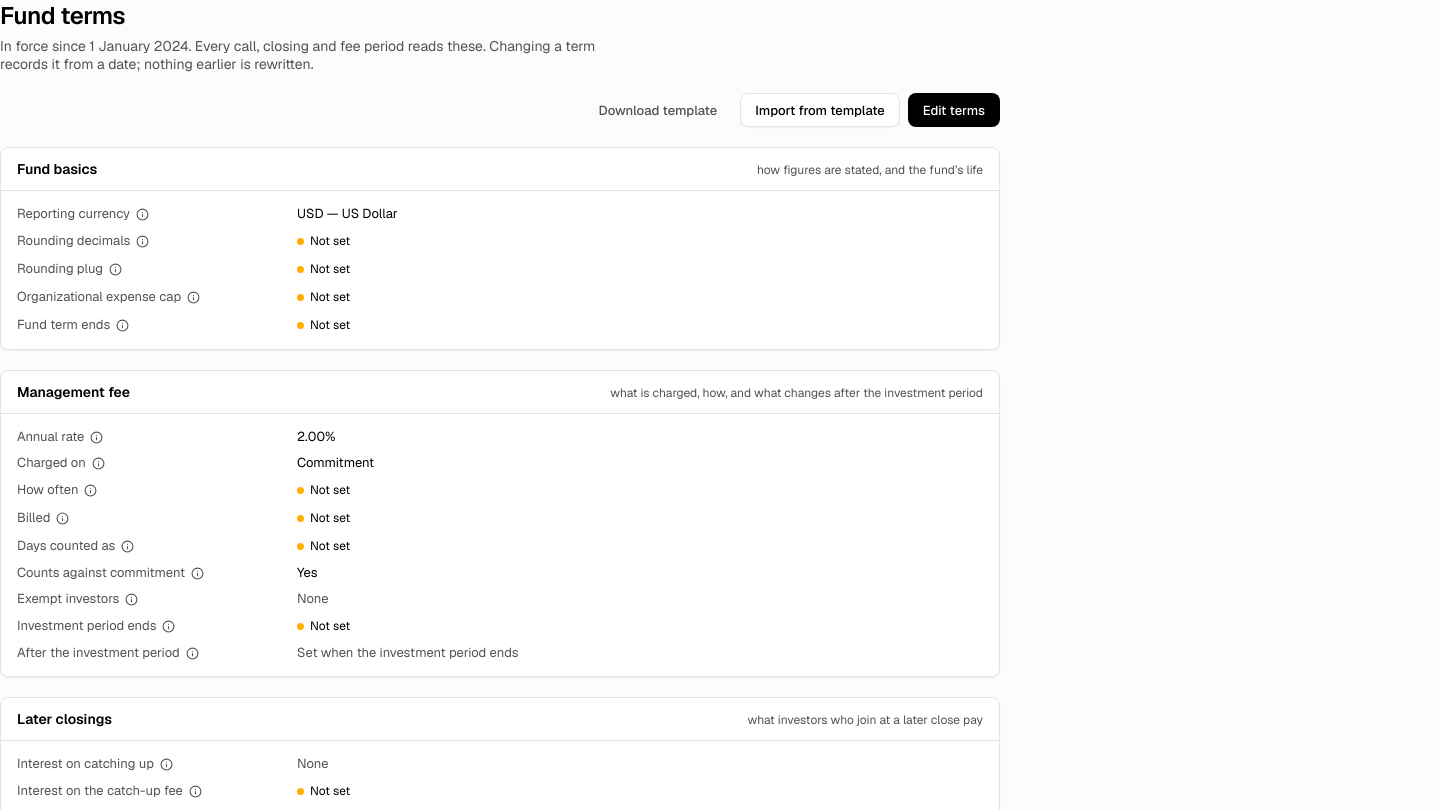
Scenario: recording a change › will not schedule it without knowing when the period ends
Click the button "Edit terms". click: (954,110)
box: [908, 93, 1000, 127]
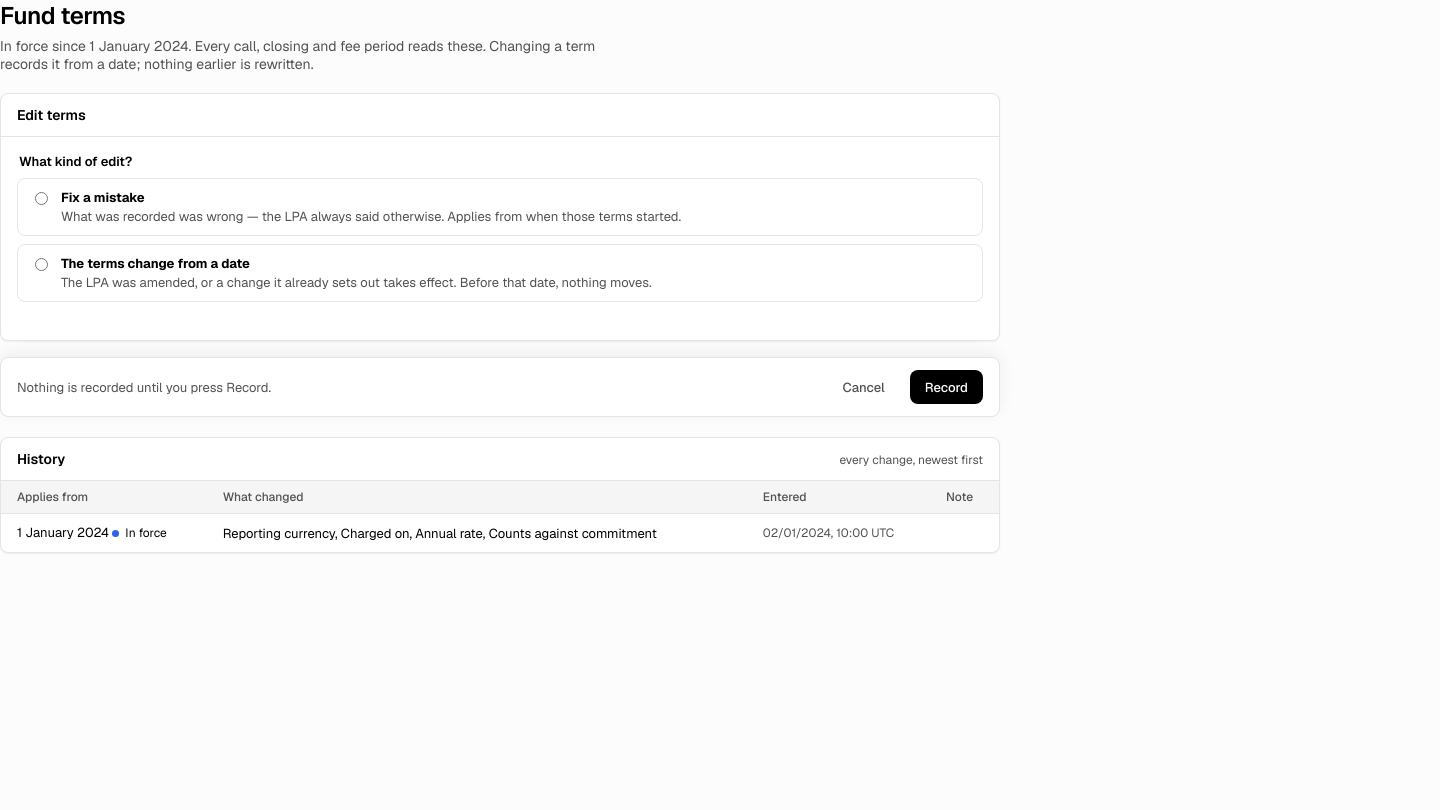
Click the radio button labelled "The terms change from a date". click: (42,264)
box: [35, 258, 48, 271]
(page scrolled)
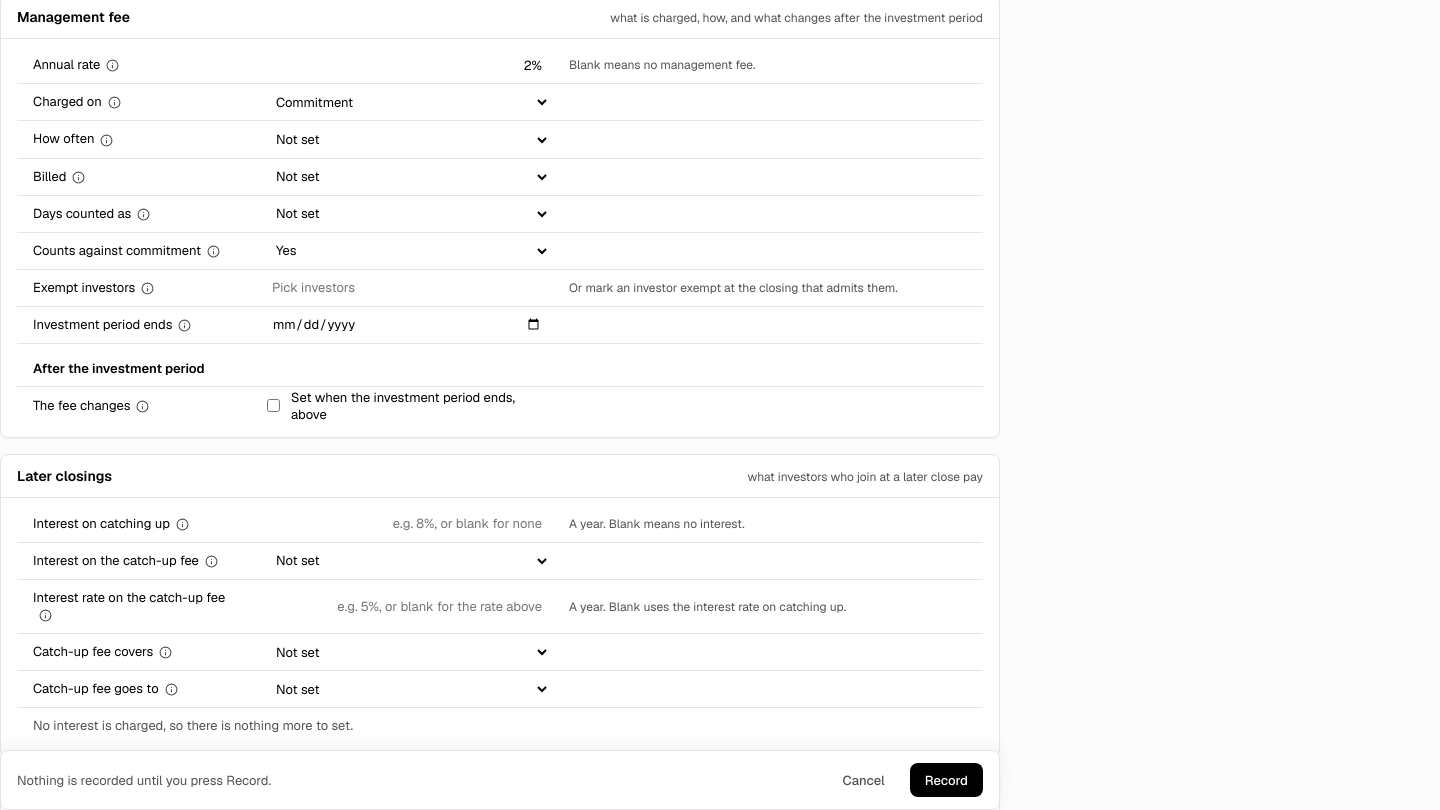
Click the checkbox. click: (274,406)
box: [267, 399, 280, 412]
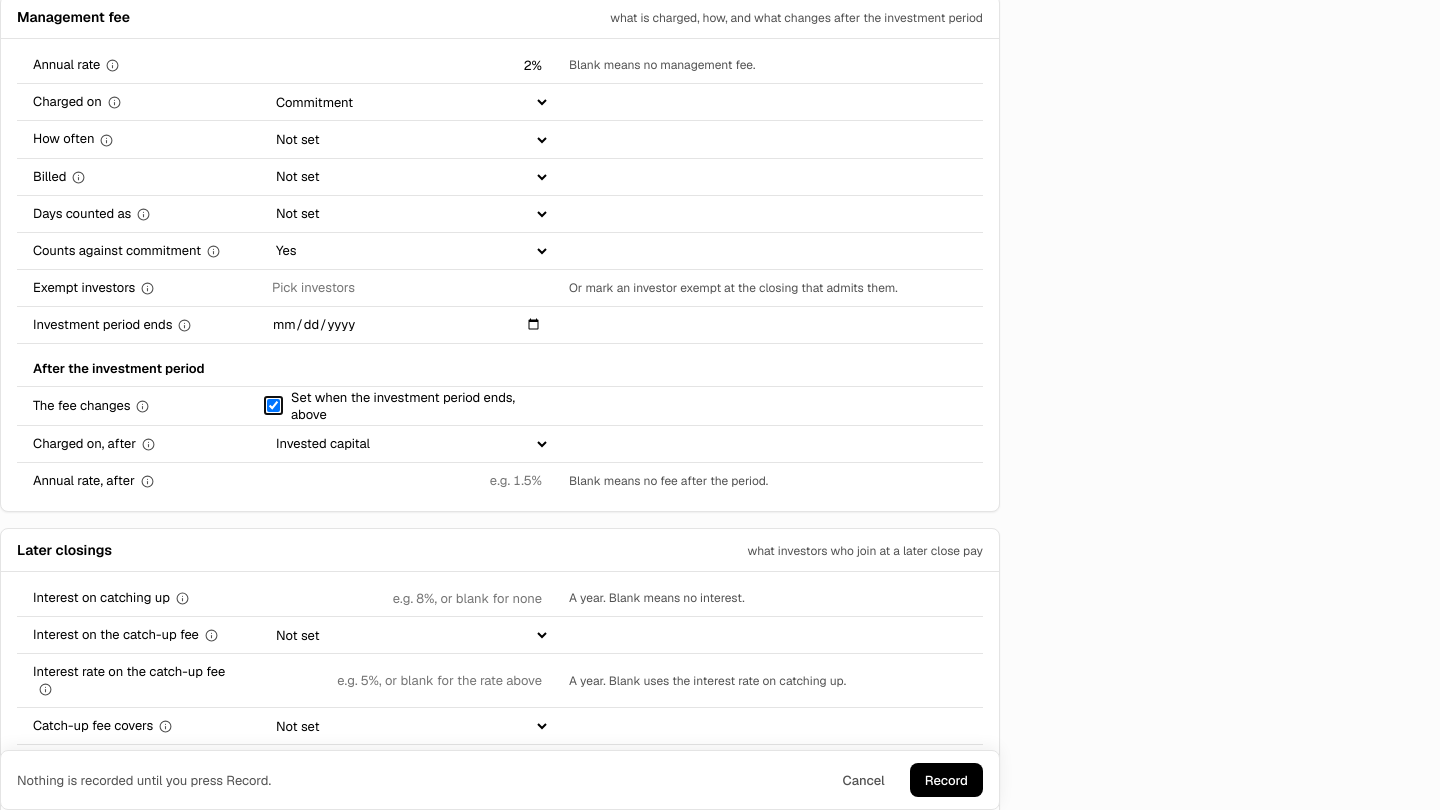
Type "0.015" into the field named "Annual rate after the investment period". click: (407,481)
box: [263, 466, 551, 496]
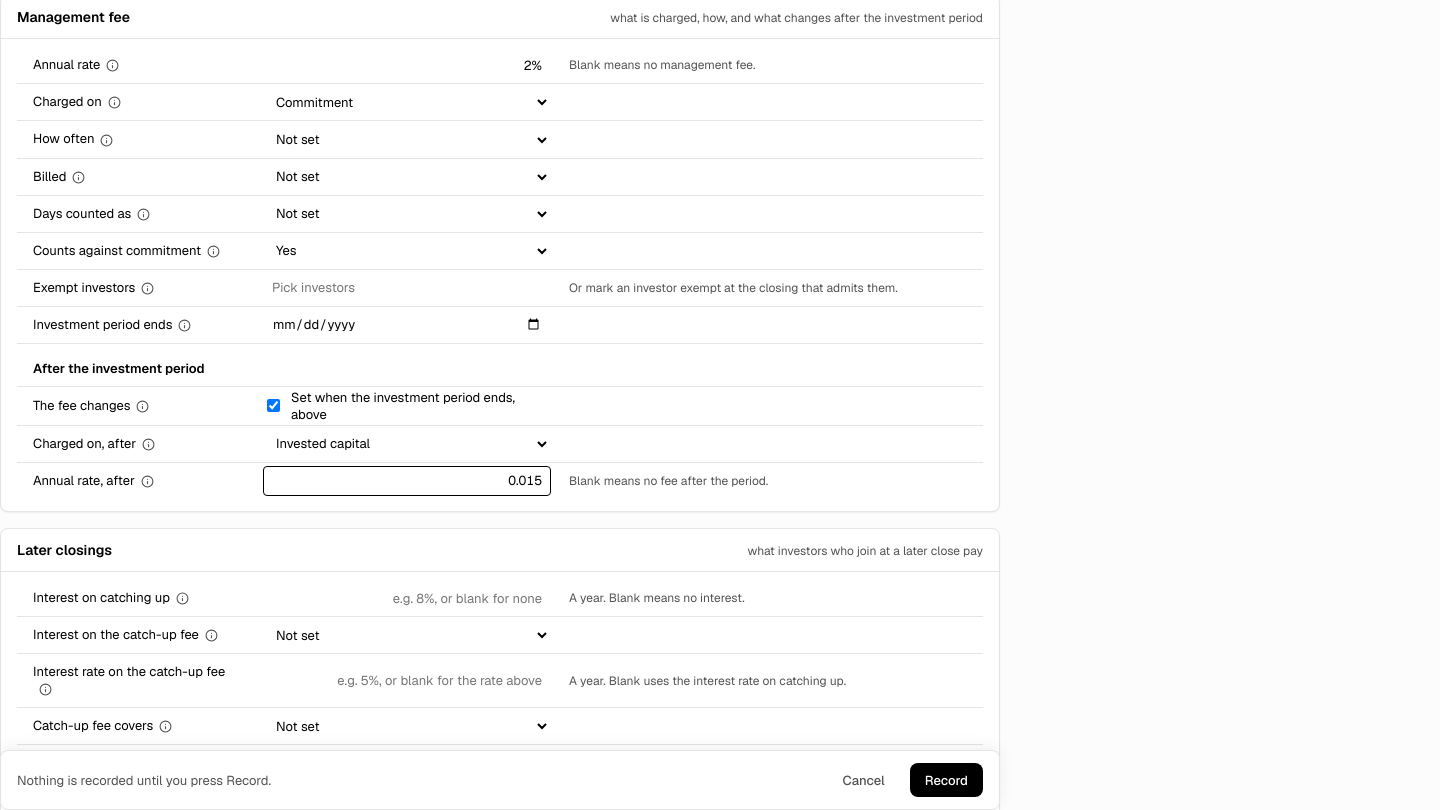
Click the button "Record". click: (946,780)
box: [910, 763, 983, 797]
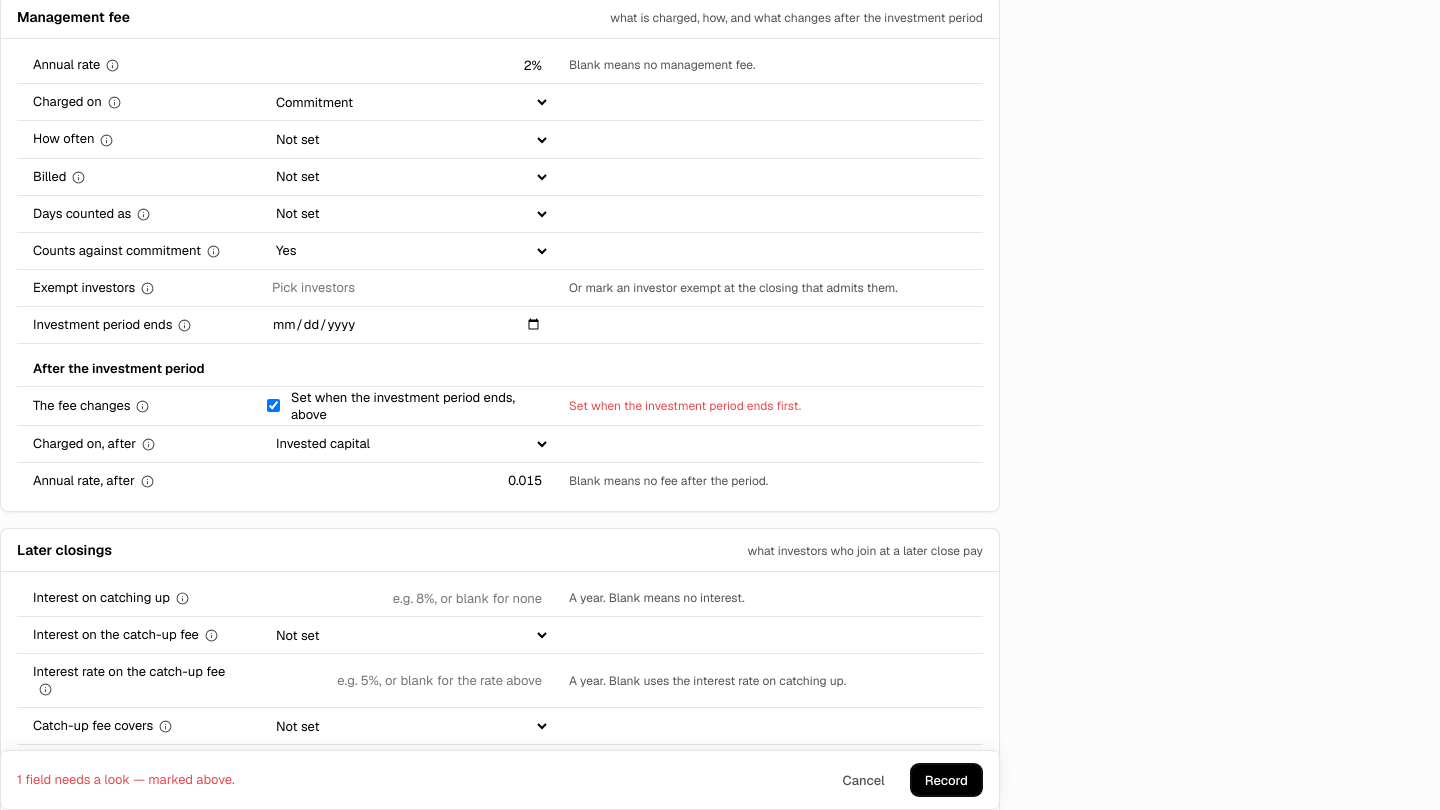
Now the message "Set when the investment period ends first." is shown, box [569, 398, 801, 414]
